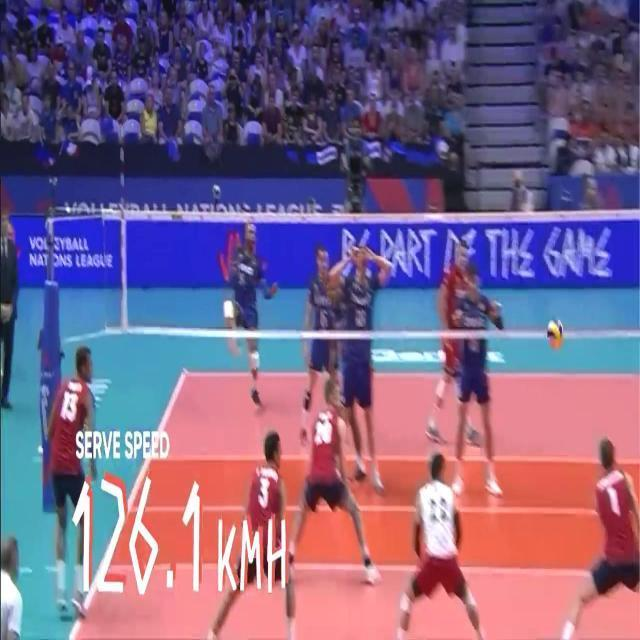volleyball: (546, 319, 564, 348)
